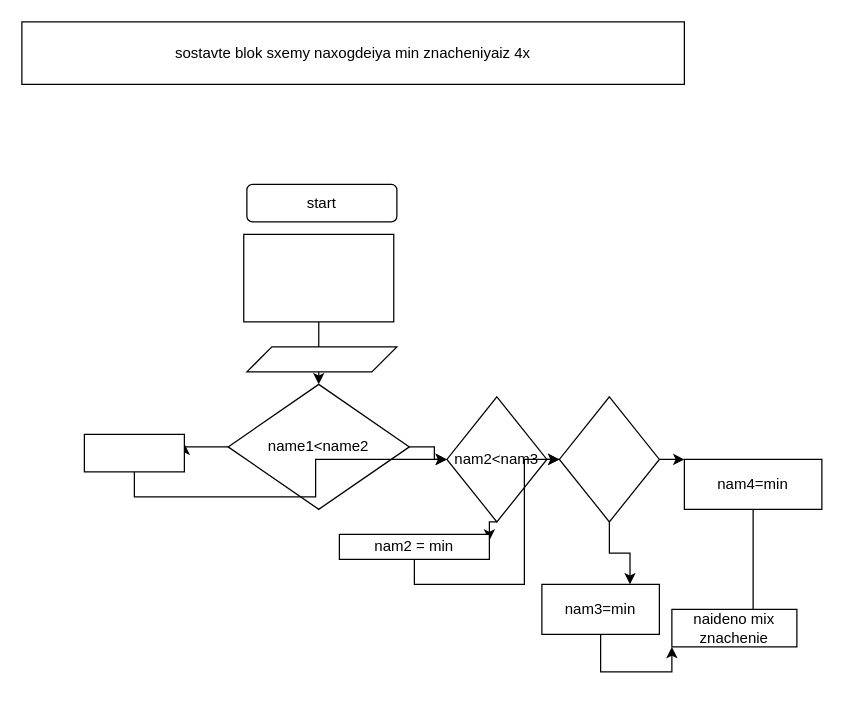
The diagram is 844 pixels wide and 704 high, and some of its shapes have lost their labels. The shapes that lost their labels are listed below. From the top down, each one's centre as x and y in pixels, then its label:
At [318,277]: "name1 name2 name3 name4".
At [321,359]: "nam 1 =min".
At [133,452]: "nam1=min".
At [608,459]: "nam3<nam4".
